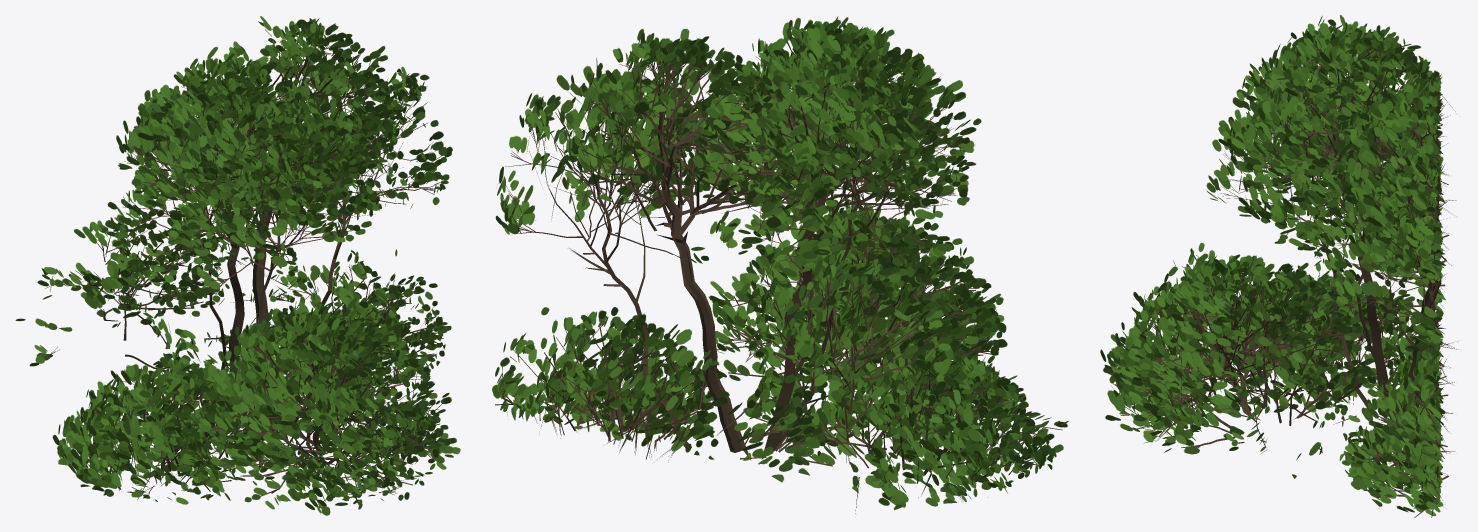
3 views of the same model, side by side, from view 1: azimuth 30°, elevation 25°; view 2: azimuth 150°, elevation 25°; view 3: azimuth 270°, elevation 25° (orthographic). The views are drawn at different scales.
Parts seen in each view (by area): view 1: oak 01.001_trunk_Mat.001_0.197; view 2: oak 01.001_trunk_Mat.001_0.197; view 3: oak 01.001_trunk_Mat.001_0.197.
Part boxes in pixels (<box>): oak 01.001_trunk_Mat.001_0.197: <box>15,16,460,515</box>; oak 01.001_trunk_Mat.001_0.197: <box>492,16,1068,513</box>; oak 01.001_trunk_Mat.001_0.197: <box>1100,15,1458,517</box>.
Size of the model in its own units: 4.98 by 4.29 by 3.63.
Materials: 2 (1 with a texture image).
